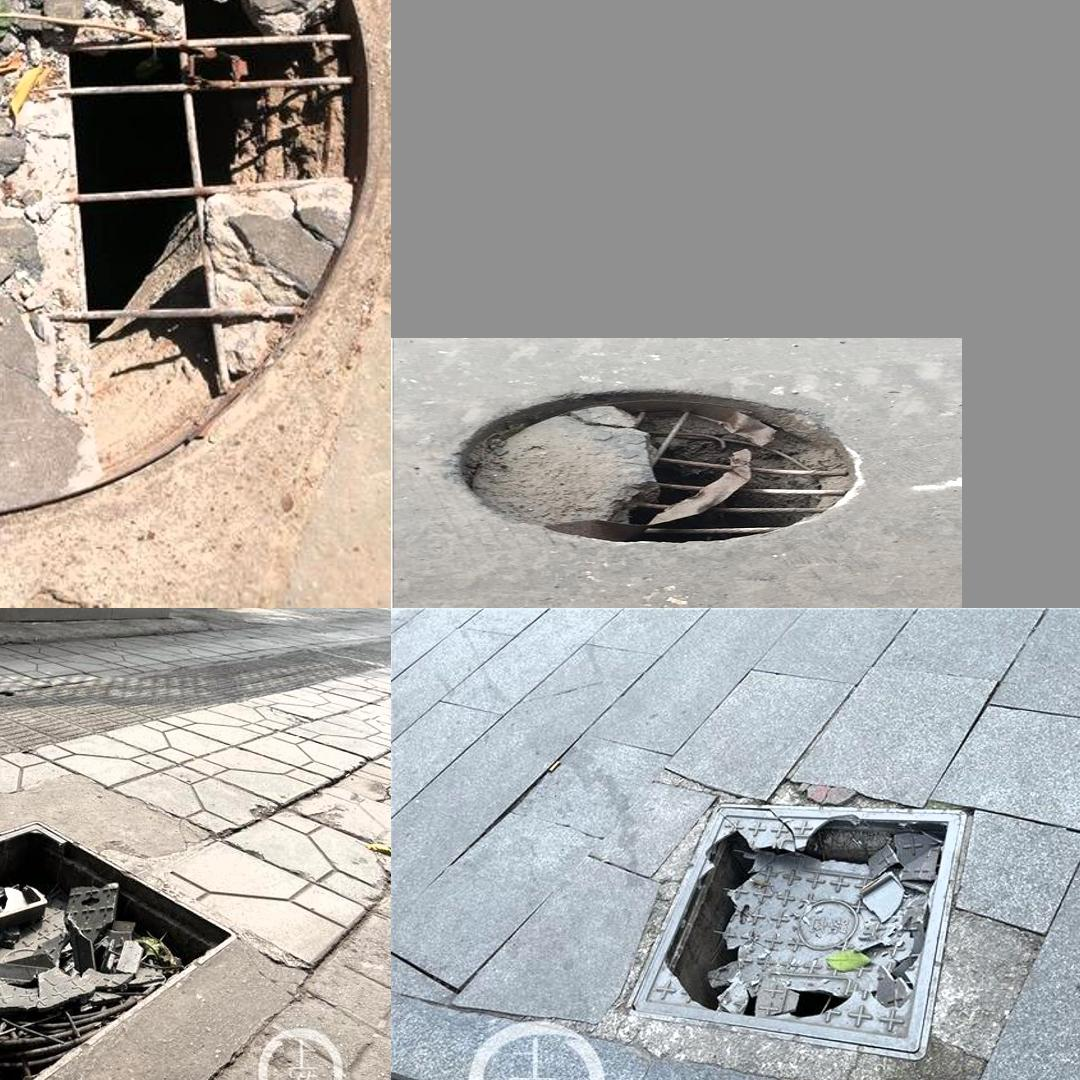broke: (0, 0, 369, 512), (586, 785, 995, 1072), (0, 782, 344, 1080), (455, 377, 875, 557)
